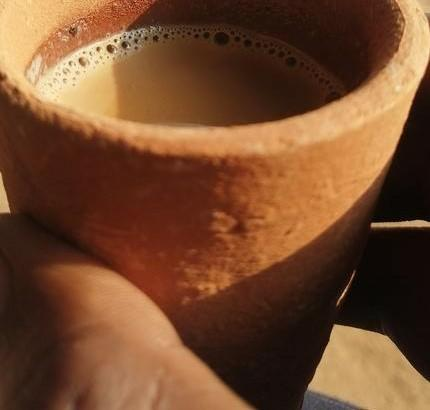Chai: (31, 28, 355, 130)
